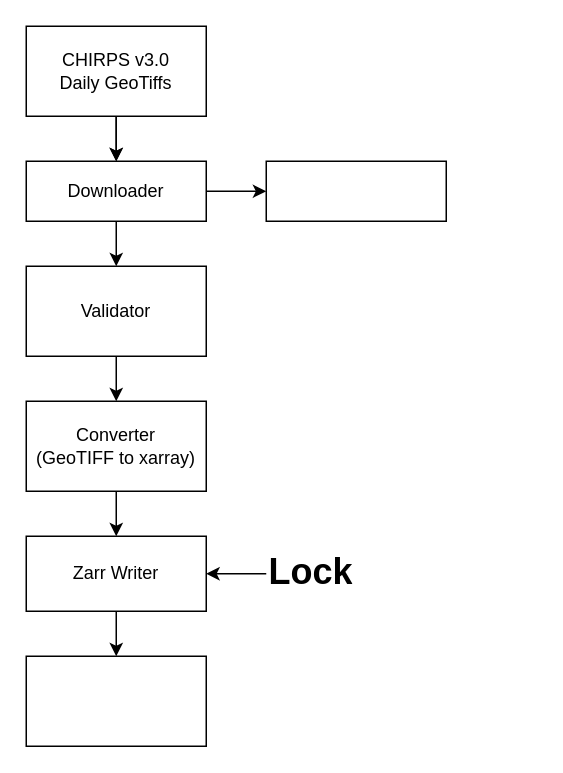
The diagram is 563 pixels wide and 773 high, and some of its shapes have lost their labels. Here are the shapes that lost their labels. From the top down, the box of each, then its label:
(265, 160, 446, 221): Local Staging
(25, 655, 206, 746): Zarr Store (Append Only)
